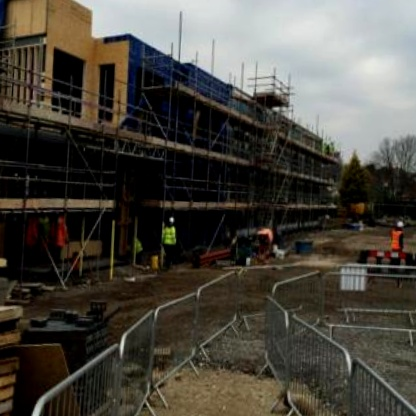vest: (23, 213, 40, 245), (51, 216, 68, 246), (162, 220, 177, 247), (388, 225, 404, 250), (35, 217, 50, 243)
white: (394, 217, 406, 231), (167, 213, 174, 225)
